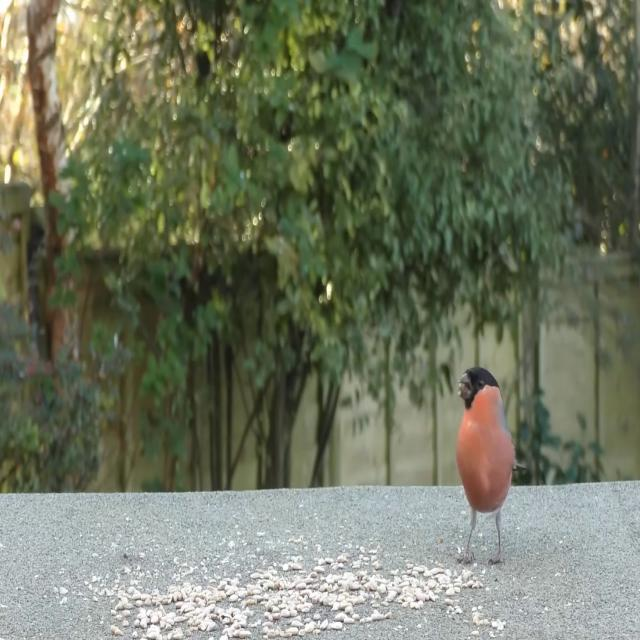beak: (455, 371, 472, 400)
bird: (453, 362, 525, 572)
